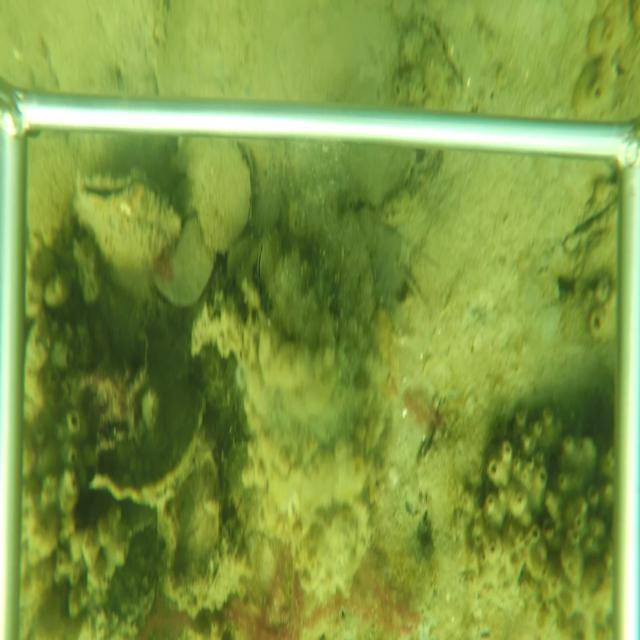Oyster-Closed: (179, 139, 261, 258), (256, 237, 276, 292)
Oyster-Indeterminate: (150, 220, 211, 308)
Oyster-Open: (69, 166, 183, 273)
